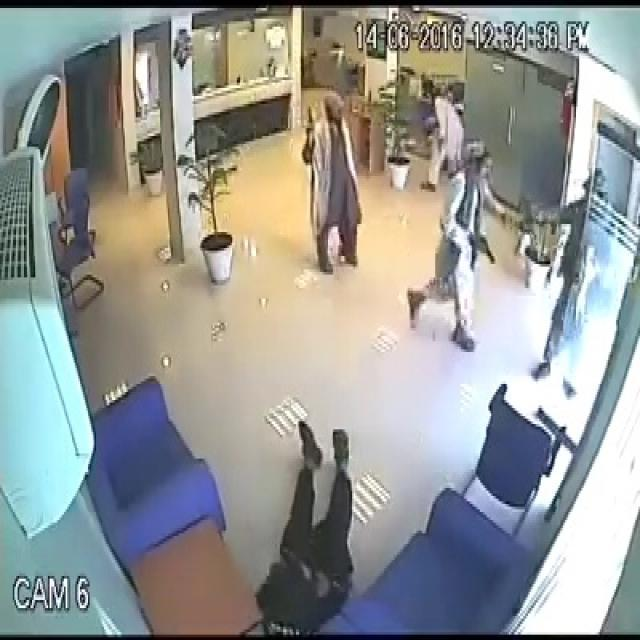weapon: (472, 227, 494, 264), (304, 101, 314, 131)
